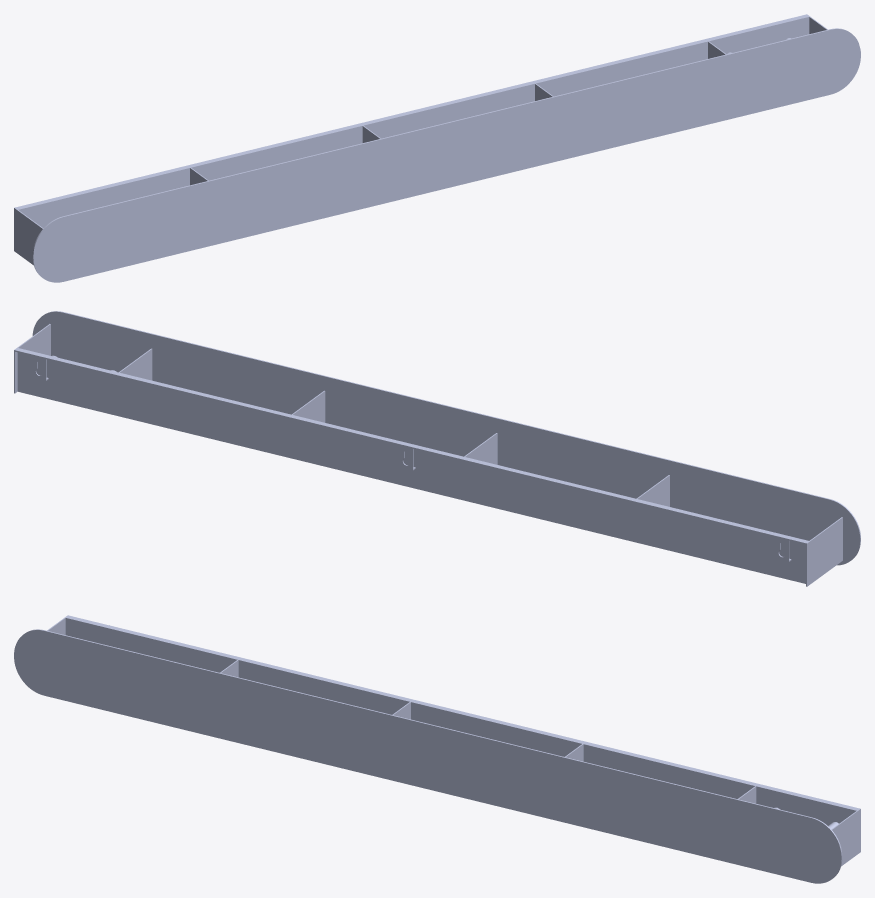
File: round-patron.8d6cb2ea79.glb
The picture shows the model from 3 angles, top to bottom: view 1: azimuth 30°, elevation 25°; view 2: azimuth 150°, elevation 25°; view 3: azimuth 330°, elevation 25°; orthographic projection.
Parts seen in each view (by area): view 1: NAUO1; view 2: NAUO1; view 3: NAUO1.
Boxes of the visible parts, <box> form: NAUO1: <box>14,14,860,282</box>; NAUO1: <box>14,311,860,586</box>; NAUO1: <box>14,615,860,883</box>.
Bounding box in the file's own units: 1.2 × 0.0899 × 0.092.
